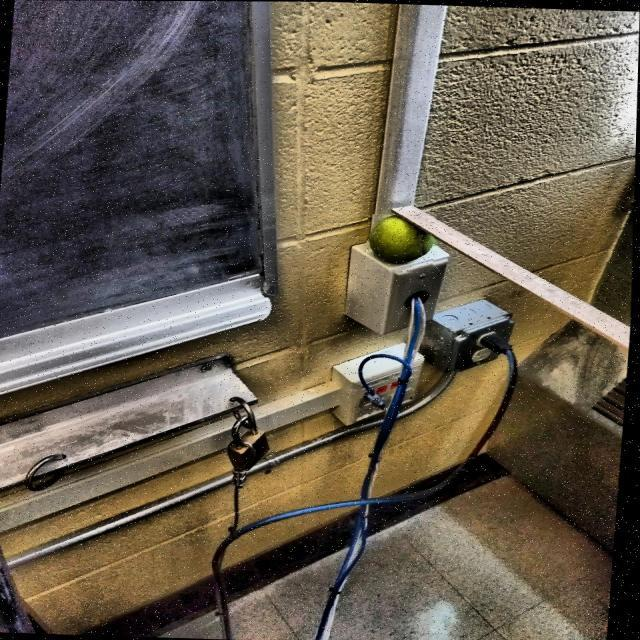tennis-ball: (367, 214, 441, 274)
